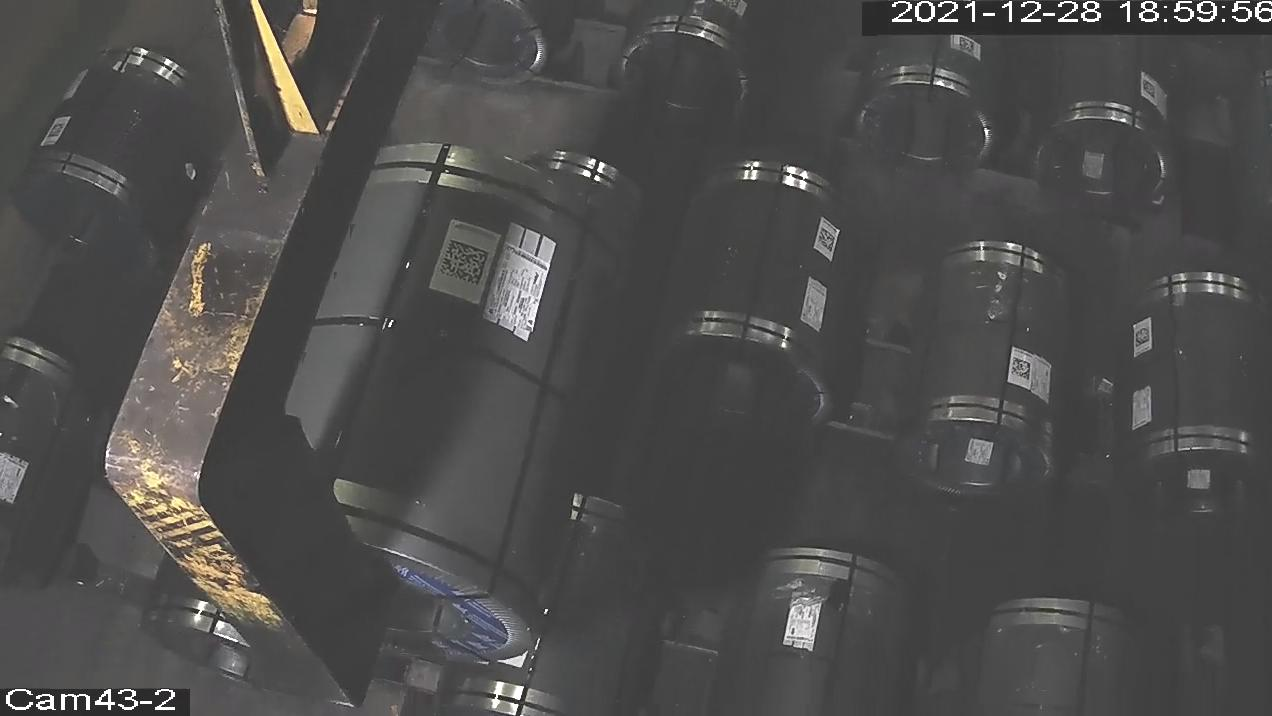data matrix: (437, 238, 493, 290), (1008, 355, 1034, 384), (816, 226, 839, 255), (1132, 326, 1156, 350), (1142, 75, 1160, 100), (958, 36, 978, 57)
